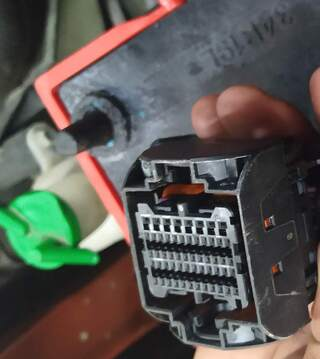connector: (121, 136, 313, 348)
